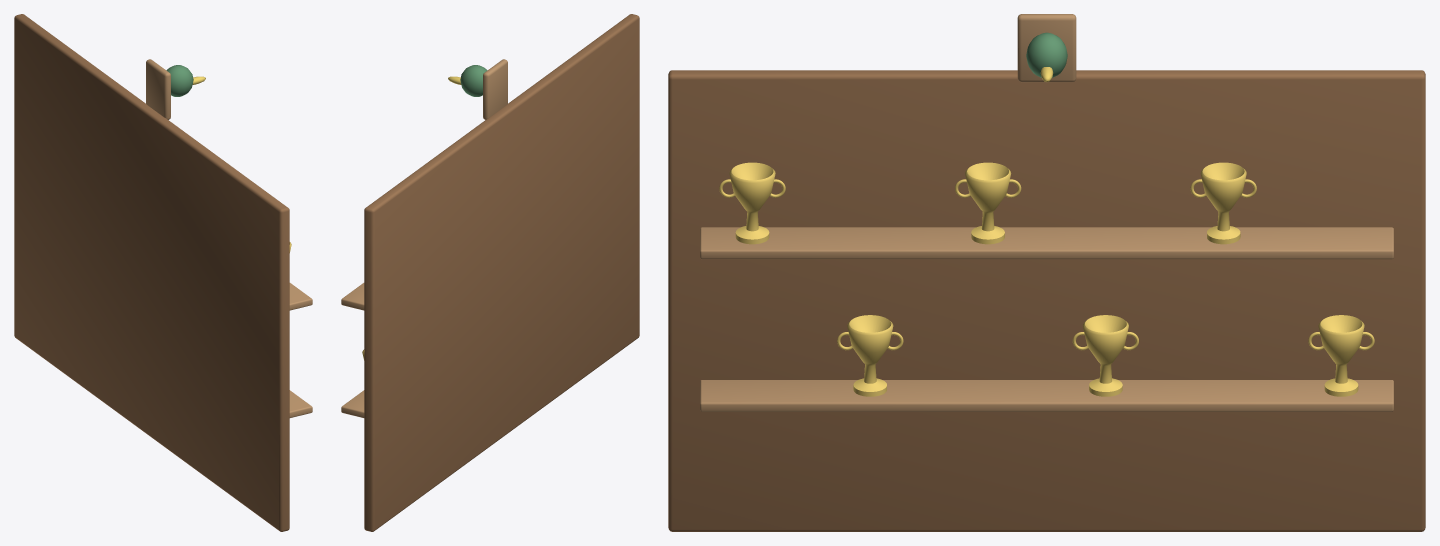
The model's file is trophywall.glb.
The picture shows the model from 3 angles, left to right: view 1: azimuth 30°, elevation 25°; view 2: azimuth 150°, elevation 25°; view 3: azimuth 270°, elevation 25°; orthographic projection. The views are drawn at different scales.
Parts seen in each view (by area): view 1: board, plaque, duckhead, shelf1, shelf-1; view 2: board, plaque, duckhead, shelf1, shelf-1; view 3: board, shelf1, shelf-1, plaque, cup0, cup5, cup1, cup3, cup2, cup4, duckhead.
Boxes of the visible parts, x1,y1,x2,y2 form: board: (14, 14, 289, 531); plaque: (146, 59, 170, 119); duckhead: (166, 65, 193, 96); shelf1: (289, 283, 312, 310); shelf-1: (289, 390, 312, 417); board: (364, 14, 639, 531); plaque: (483, 59, 507, 119); duckhead: (460, 65, 487, 96); shelf1: (341, 283, 364, 310); shelf-1: (341, 390, 364, 417); board: (668, 70, 1425, 531); shelf1: (700, 227, 1393, 259); shelf-1: (700, 380, 1393, 411); plaque: (1017, 14, 1076, 82); cup0: (1318, 315, 1364, 396); cup5: (729, 162, 775, 244); cup1: (1200, 162, 1246, 244); cup3: (965, 162, 1011, 244); cup2: (1083, 315, 1128, 396); cup4: (847, 315, 893, 396); duckhead: (1026, 32, 1067, 77).
Bounding box in the file's own units: 0.46 × 2.73 × 3.6.
